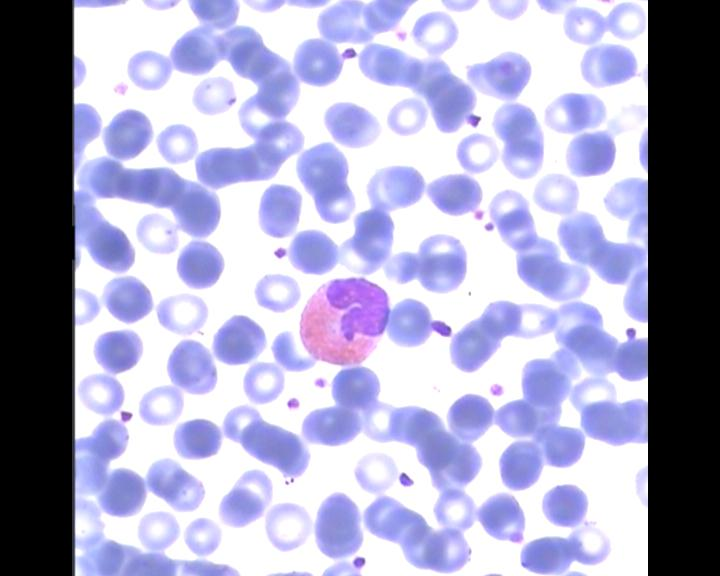eosi: (295, 272, 391, 368)
